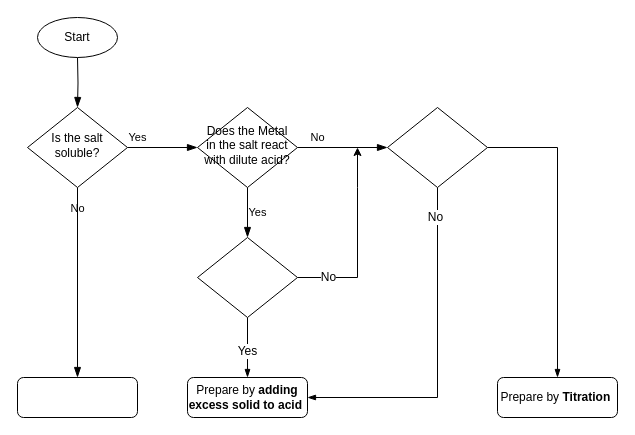
The diagram is 635 pixels wide and 435 high, and some of its shapes have lost their labels. The shapes that lost their labels are listed below. From the top down, each one's centre as x and y in pixels, then its label:
At (437,147): "Is the metal's carbonate/oxide soluble?".
At (247,277): "Does it reacts safely?".
At (77,397): "Prepare by precipitation".
